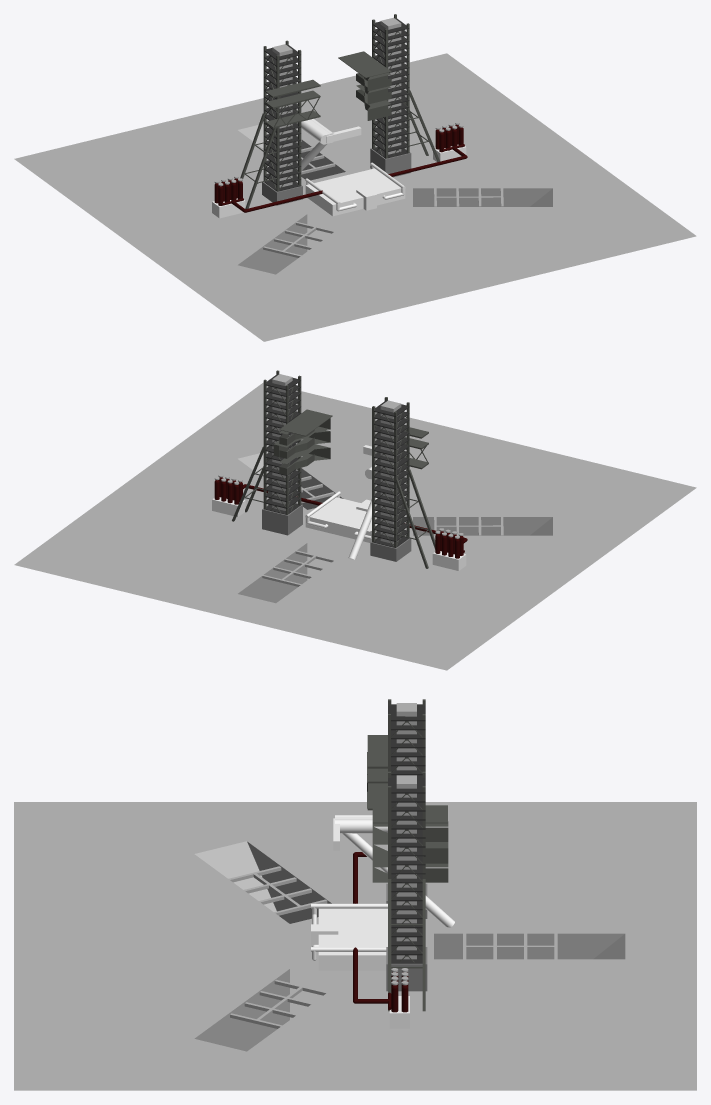
The model's file is buran_energia_launchpad.glb.
3 views of the same model, one above another, from view 1: azimuth 30°, elevation 25°; view 2: azimuth 150°, elevation 25°; view 3: azimuth 270°, elevation 25° (orthographic). The views are drawn at different scales.
Visible parts, largest first — view 1: Object_1157, Object_1156, TowerSkeleton (×2), Object_939, Object_451, Grate, Object_445, Balkon, Object_902; view 2: Object_1157, Object_1156, TowerSkeleton (×2), Object_939, Balkon (×2), Object_445, Object_451, Grate, Object_902, SetOfBarrels; view 3: Object_1157, Object_1156, TowerSkeleton (×2), Object_939, Grate (×3), Balkon (×2), Level (×2), Object_445, Object_936, Object_451, Object_905.
Part boxes in pixels (x1,y1,x2,y2): Object_1157: (14,53,696,341); Object_1156: (238,123,552,274); TowerSkeleton (×2): (245,14,429,191); Object_939: (305,168,405,216); Object_451: (338,51,391,77); Grate: (263,222,335,257); Object_445: (370,147,411,177); Balkon: (356,84,391,120); Object_902: (262,181,302,205); Object_1157: (14,382,696,670); Object_1156: (238,451,552,603); TowerSkeleton (×2): (244,370,428,547); Object_939: (305,497,405,542); Balkon (×2): (279,430,330,475); Object_445: (262,503,302,535); Object_451: (279,409,332,436); Grate: (262,550,334,586); Object_902: (370,537,411,561); SetOfBarrels: (432,551,466,570); Object_1157: (14,802,696,1090); Object_1156: (194,841,625,1051); TowerSkeleton (×2): (388,699,425,968); Object_939: (318,908,387,970); Grate (×3): (227,866,557,1028); Balkon (×2): (372,821,448,882); Level (×2): (388,704,425,802); Object_445: (386,947,427,991); Object_936: (342,833,454,927); Object_451: (372,805,447,823); Object_905: (367,735,387,768).
Size of what is drawn, in the model's own units: 92.4 by 38.62 by 92.4.
